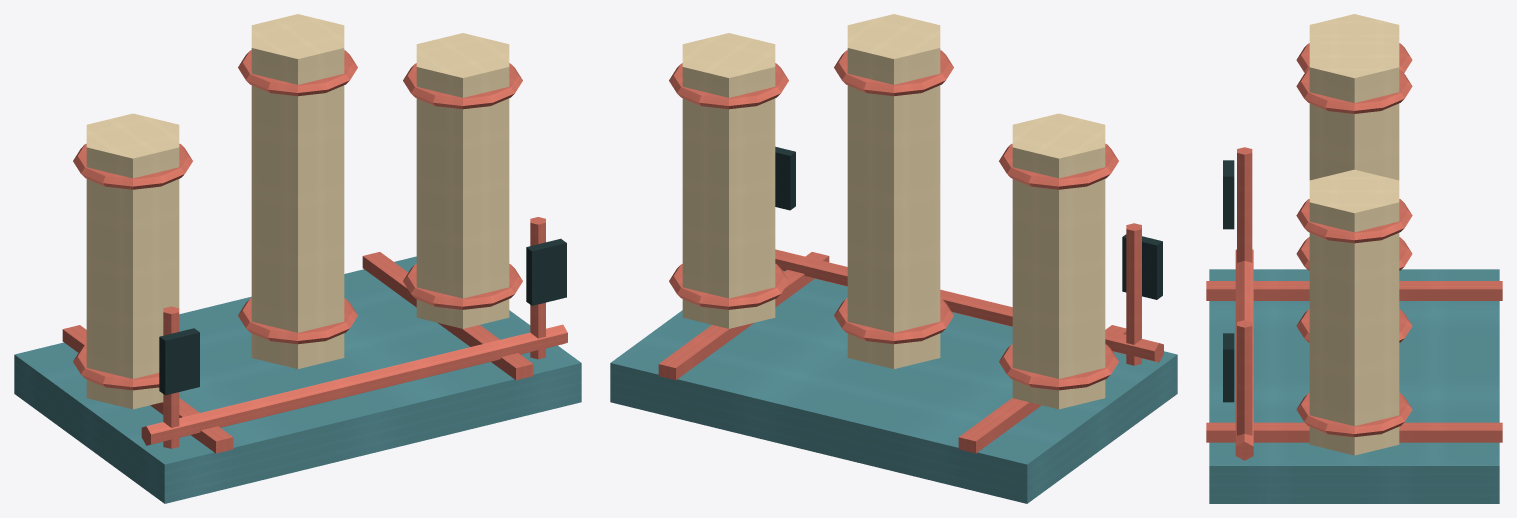
File: atlas100-s073-a02.lod2.glb
The picture shows the model from 3 angles, left to right: view 1: azimuth 30°, elevation 25°; view 2: azimuth 150°, elevation 25°; view 3: azimuth 270°, elevation 25°; orthographic projection. The views are drawn at different scales.
Visible parts, largest first — view 1: atlas100-s073-a02:part-000, atlas100-s073-a02:part-007, atlas100-s073-a02:part-011, atlas100-s073-a02:part-003, atlas100-s073-a02:part-019, atlas100-s073-a02:part-002, atlas100-s073-a02:part-016, atlas100-s073-a02:part-018, atlas100-s073-a02:part-005, atlas100-s073-a02:part-012, atlas100-s073-a02:part-009, atlas100-s073-a02:part-013 (+5 smaller); view 2: atlas100-s073-a02:part-000, atlas100-s073-a02:part-007, atlas100-s073-a02:part-003, atlas100-s073-a02:part-011, atlas100-s073-a02:part-019, atlas100-s073-a02:part-002, atlas100-s073-a02:part-015, atlas100-s073-a02:part-001, atlas100-s073-a02:part-005, atlas100-s073-a02:part-004, atlas100-s073-a02:part-012, atlas100-s073-a02:part-009 (+4 smaller); view 3: atlas100-s073-a02:part-000, atlas100-s073-a02:part-011, atlas100-s073-a02:part-007, atlas100-s073-a02:part-002, atlas100-s073-a02:part-001, atlas100-s073-a02:part-019, atlas100-s073-a02:part-003, atlas100-s073-a02:part-017, atlas100-s073-a02:part-015, atlas100-s073-a02:part-012, atlas100-s073-a02:part-013, atlas100-s073-a02:part-009 (+5 smaller).
Boxes of the visible parts, box(x1,y1,x2,y2) form: atlas100-s073-a02:part-000: box(14, 256, 581, 503); atlas100-s073-a02:part-007: box(251, 14, 344, 368); atlas100-s073-a02:part-011: box(416, 33, 509, 328); atlas100-s073-a02:part-003: box(86, 113, 179, 409); atlas100-s073-a02:part-019: box(141, 324, 567, 445); atlas100-s073-a02:part-002: box(362, 252, 533, 380); atlas100-s073-a02:part-016: box(159, 328, 199, 395); atlas100-s073-a02:part-018: box(526, 238, 566, 305); atlas100-s073-a02:part-005: box(73, 143, 192, 189); atlas100-s073-a02:part-012: box(403, 264, 522, 309); atlas100-s073-a02:part-009: box(238, 50, 357, 96); atlas100-s073-a02:part-013: box(403, 63, 522, 109); atlas100-s073-a02:part-000: box(610, 271, 1177, 503); atlas100-s073-a02:part-007: box(847, 14, 940, 368); atlas100-s073-a02:part-003: box(1012, 113, 1105, 409); atlas100-s073-a02:part-011: box(682, 33, 775, 328); atlas100-s073-a02:part-019: box(775, 249, 1163, 362); atlas100-s073-a02:part-002: box(658, 252, 829, 380); atlas100-s073-a02:part-015: box(1126, 223, 1141, 365); atlas100-s073-a02:part-001: box(958, 325, 1126, 453); atlas100-s073-a02:part-005: box(999, 143, 1118, 189); atlas100-s073-a02:part-004: box(999, 344, 1118, 390); atlas100-s073-a02:part-012: box(669, 264, 788, 309); atlas100-s073-a02:part-009: box(834, 50, 953, 96); atlas100-s073-a02:part-000: box(1209, 269, 1499, 503); atlas100-s073-a02:part-011: box(1309, 169, 1399, 455); atlas100-s073-a02:part-007: box(1309, 34, 1399, 180); atlas100-s073-a02:part-002: box(1206, 422, 1502, 442); atlas100-s073-a02:part-001: box(1206, 281, 1502, 300); atlas100-s073-a02:part-019: box(1235, 249, 1253, 460); atlas100-s073-a02:part-003: box(1309, 14, 1399, 45); atlas100-s073-a02:part-017: box(1237, 320, 1252, 435); atlas100-s073-a02:part-015: box(1237, 147, 1252, 262); atlas100-s073-a02:part-012: box(1296, 392, 1412, 437); atlas100-s073-a02:part-013: box(1296, 199, 1412, 243); atlas100-s073-a02:part-009: box(1296, 69, 1412, 113).
Bounding box in the file's own units: 3 × 2.39 × 1.84.
4 materials, 4 textured.
